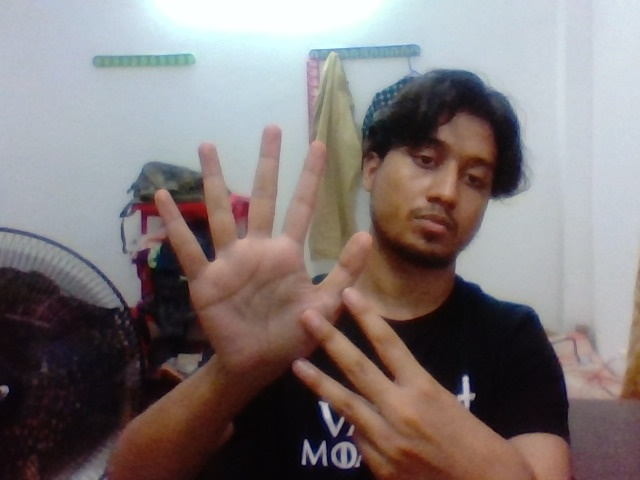M: (129, 113, 438, 447)
